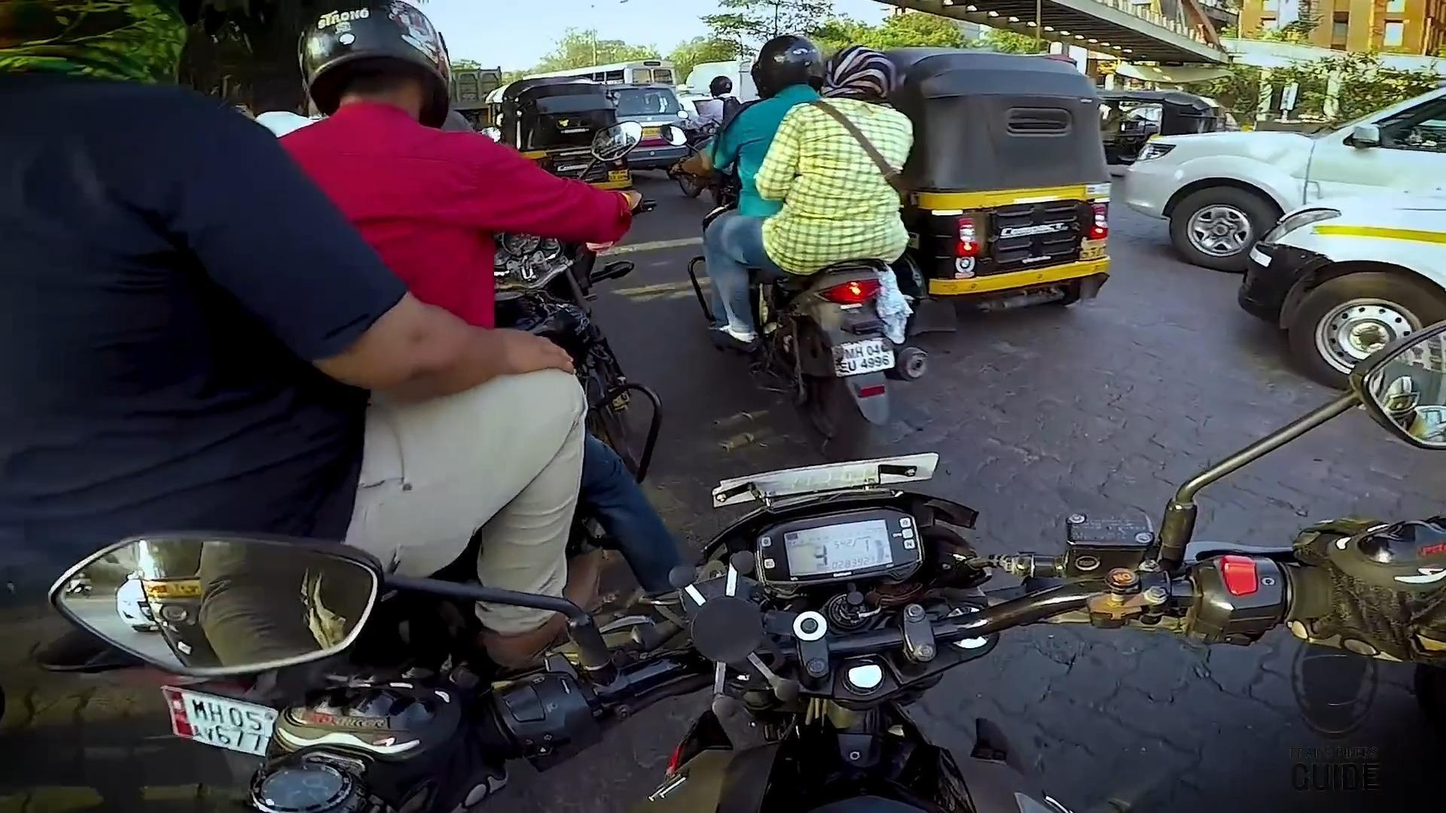Helmet: (294, 0, 458, 132), (744, 23, 827, 105)
bike: (145, 115, 666, 777), (658, 121, 928, 436)
no-helmet: (818, 35, 899, 106)
number-plate: (160, 685, 282, 761), (828, 335, 899, 373)
rider: (0, 0, 602, 658), (271, 2, 645, 399), (706, 41, 911, 358), (676, 27, 828, 230)
